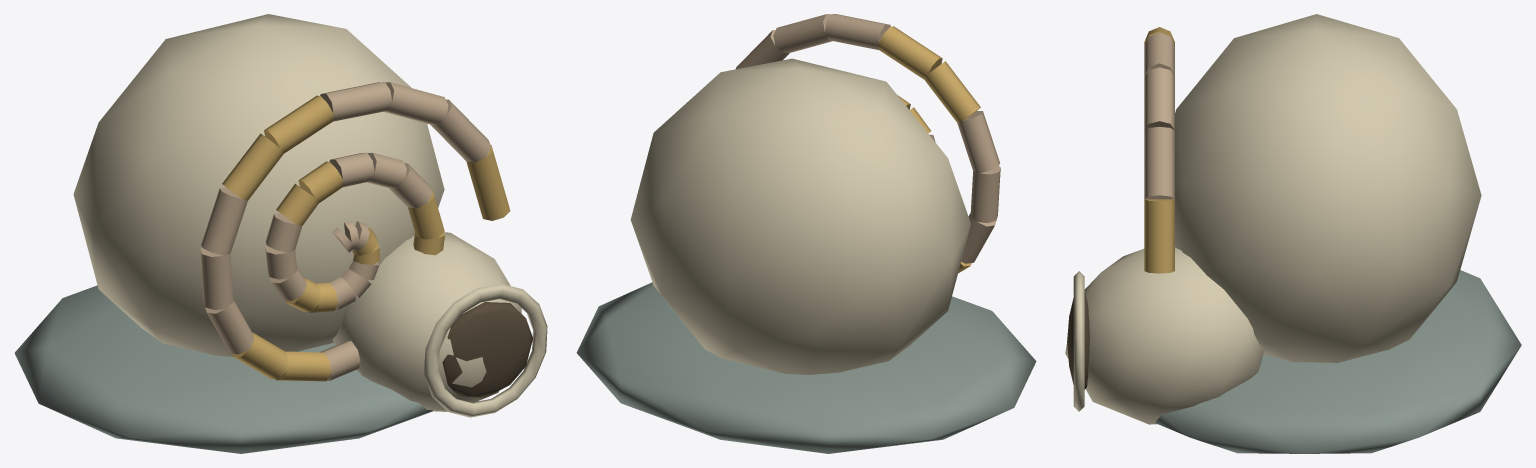
Rendered from discovery-shellspiral.glb.
3 renders of one model, left to right at view 1: azimuth 30°, elevation 25°; view 2: azimuth 150°, elevation 25°; view 3: azimuth 270°, elevation 25°, orthographic. The views are drawn at different scales.
Parts seen in each view (by area): view 1: discovery-shellspiral-visual; view 2: discovery-shellspiral-visual; view 3: discovery-shellspiral-visual.
Boxes of the visible parts, box(x1,y1,x2,y2) form: discovery-shellspiral-visual: box(14, 14, 547, 453); discovery-shellspiral-visual: box(576, 14, 1036, 453); discovery-shellspiral-visual: box(1065, 14, 1521, 453).
Bounding box in the file's own units: 0.64 × 0.485 × 0.5674.
